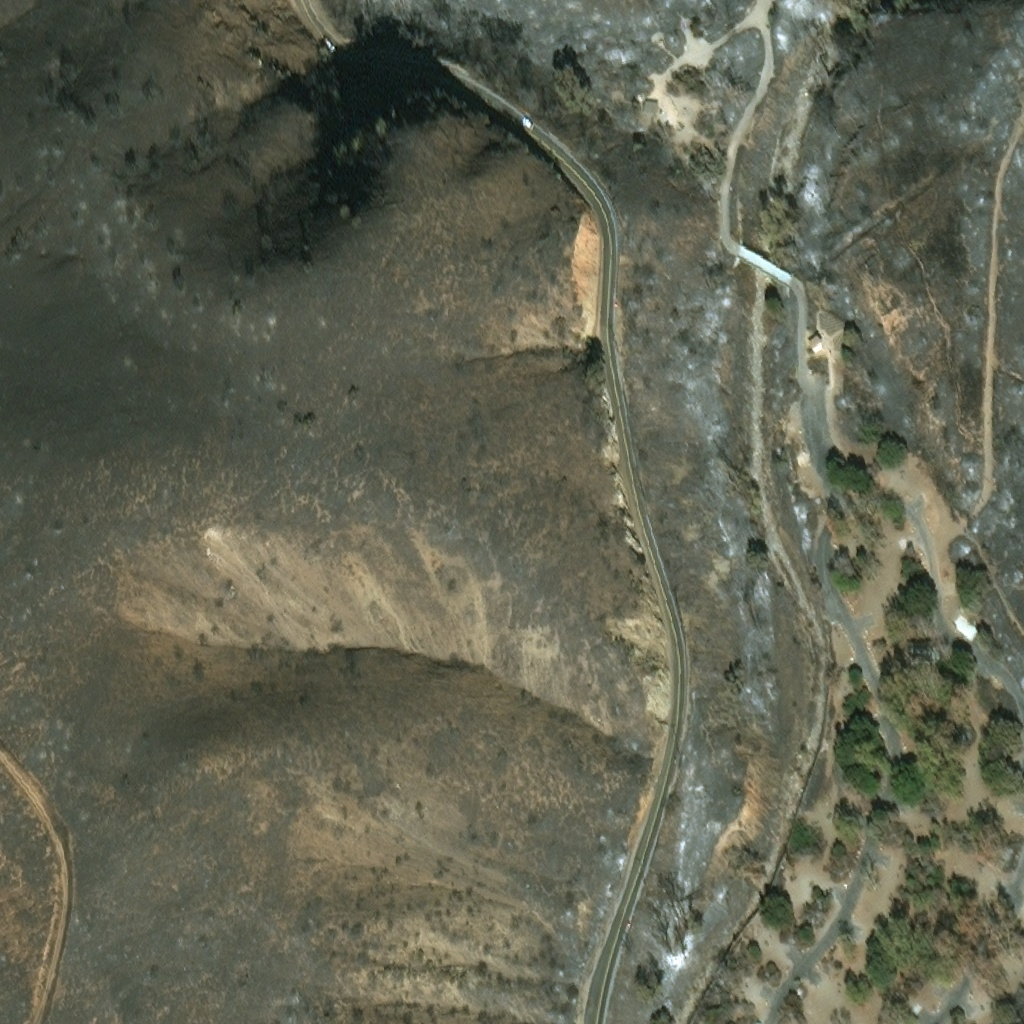4 un-classified: (908, 641, 928, 657), (804, 335, 819, 350), (641, 102, 656, 115)
